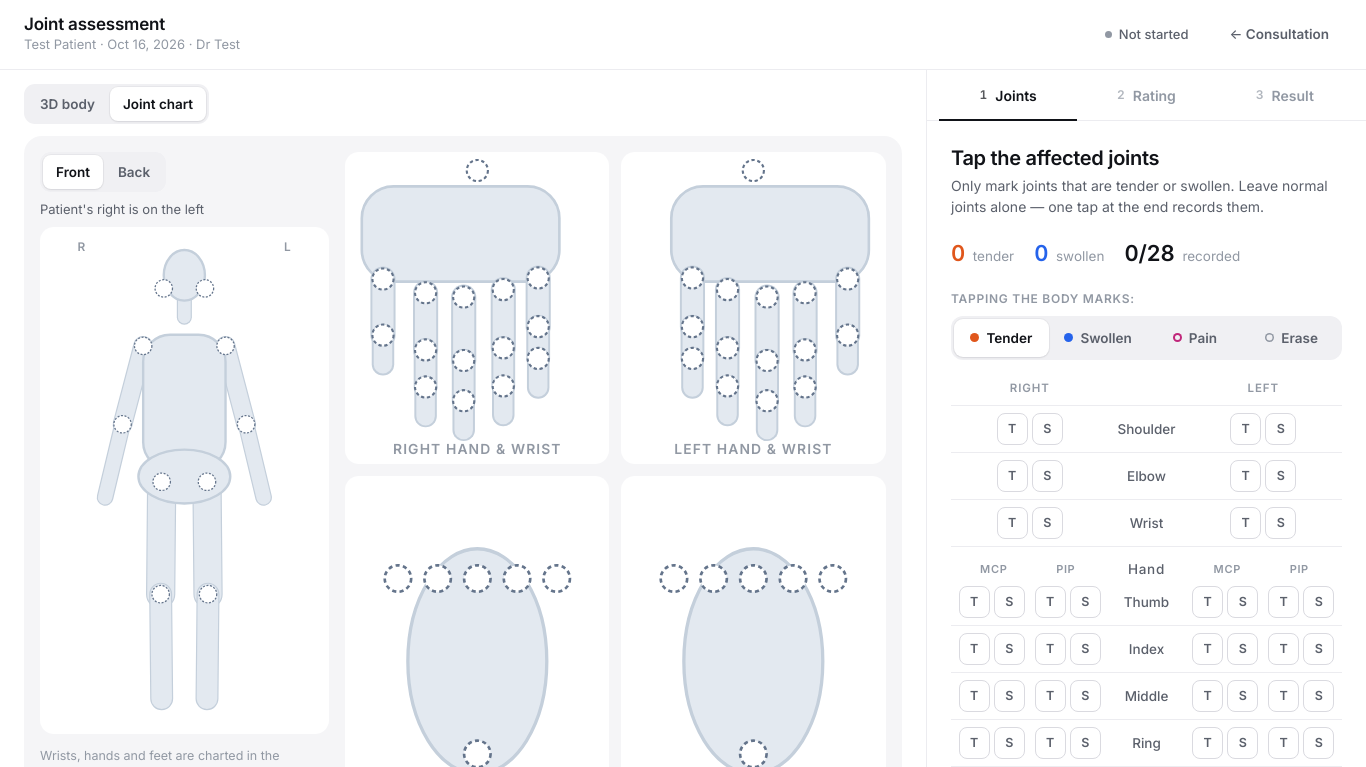
Scenario: saving and reopening › prevents duplicate saves while one is in flight
Expected: the text with test id "assessment-status" does not show "Loading", [1105, 25, 1188, 44]
Step 1. Click the button named "Right wrist tender" → (1012, 523), box [997, 507, 1028, 539]
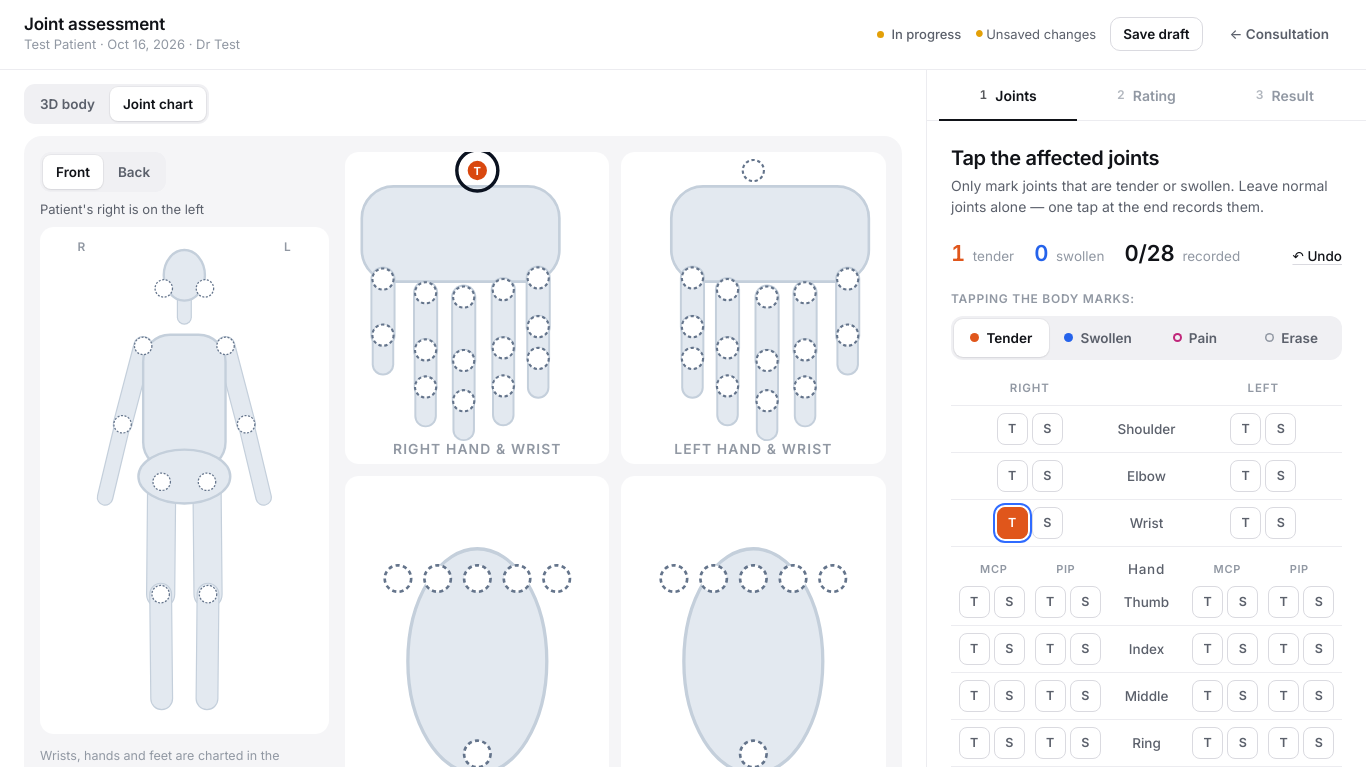
Step 2. Click the button "Save draft" → (1156, 34), box [1110, 17, 1202, 51]
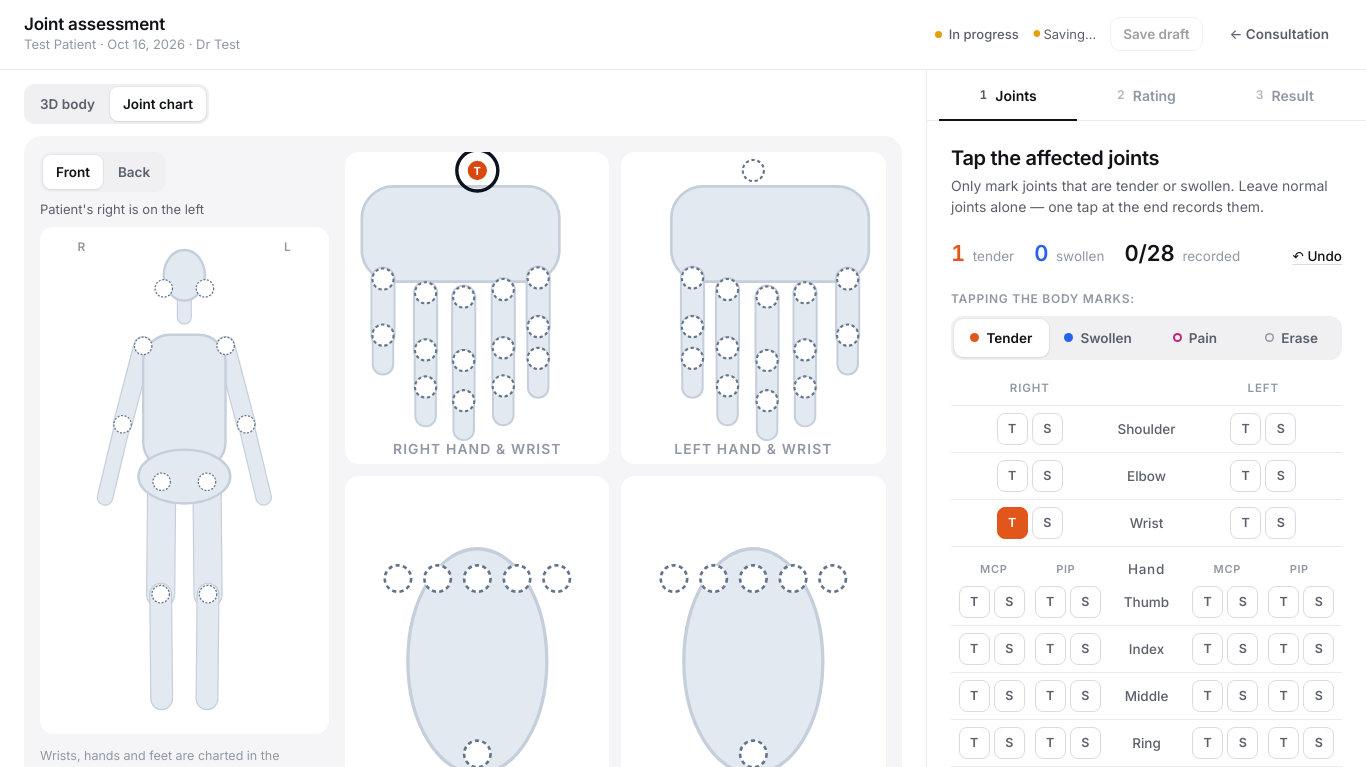
Step 3. Click the button "Save draft" → (1156, 34), box [1110, 17, 1202, 51]
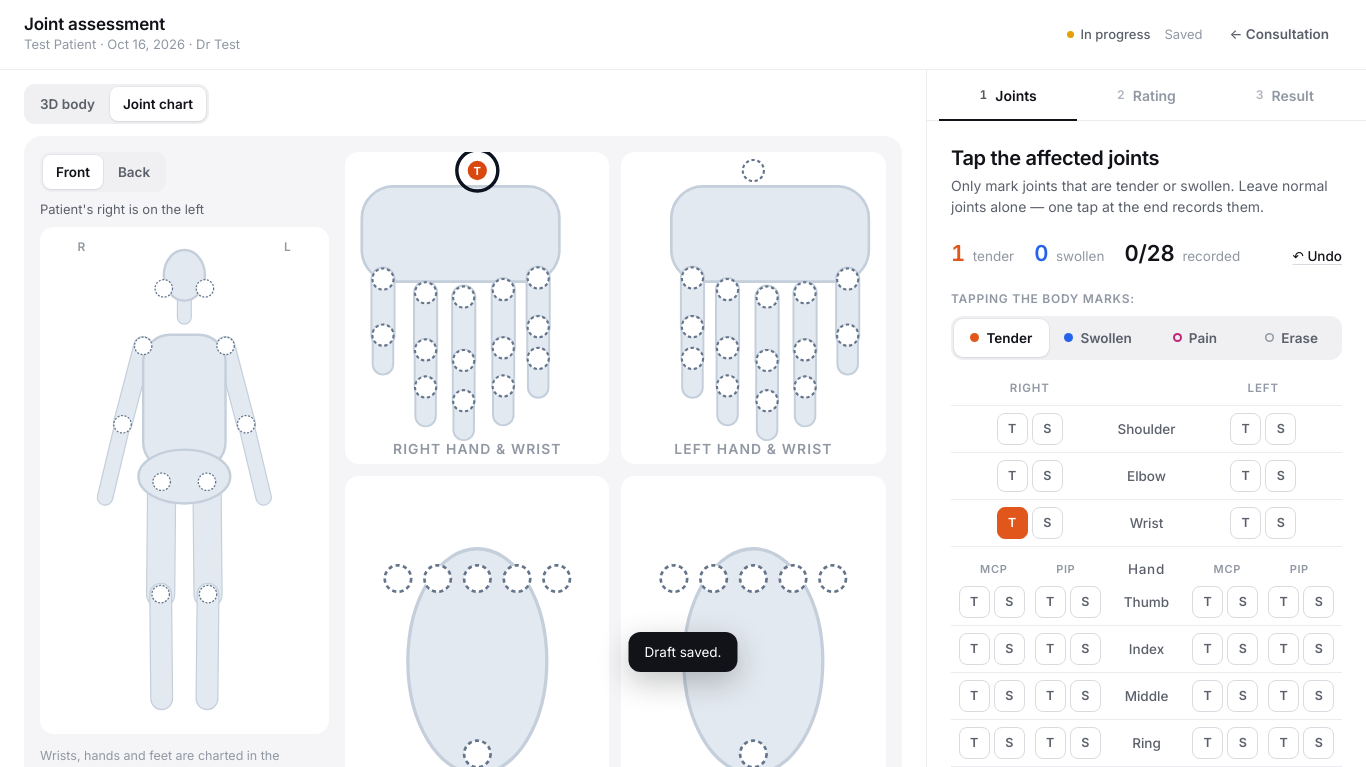
Result: the text with test id "save-state" reads "Saved" at [1164, 26, 1202, 42]
